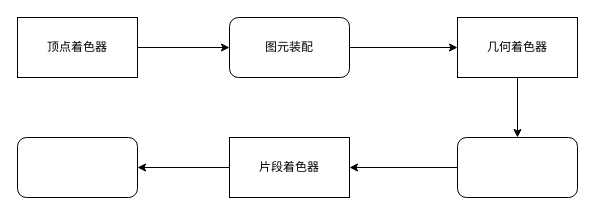
Image size: 595x215. Some labels were removed from this diagram. The centre of each missing label's shape, as x and y in pixels:
光栅化: (517,167)
测试与混合: (77,167)
